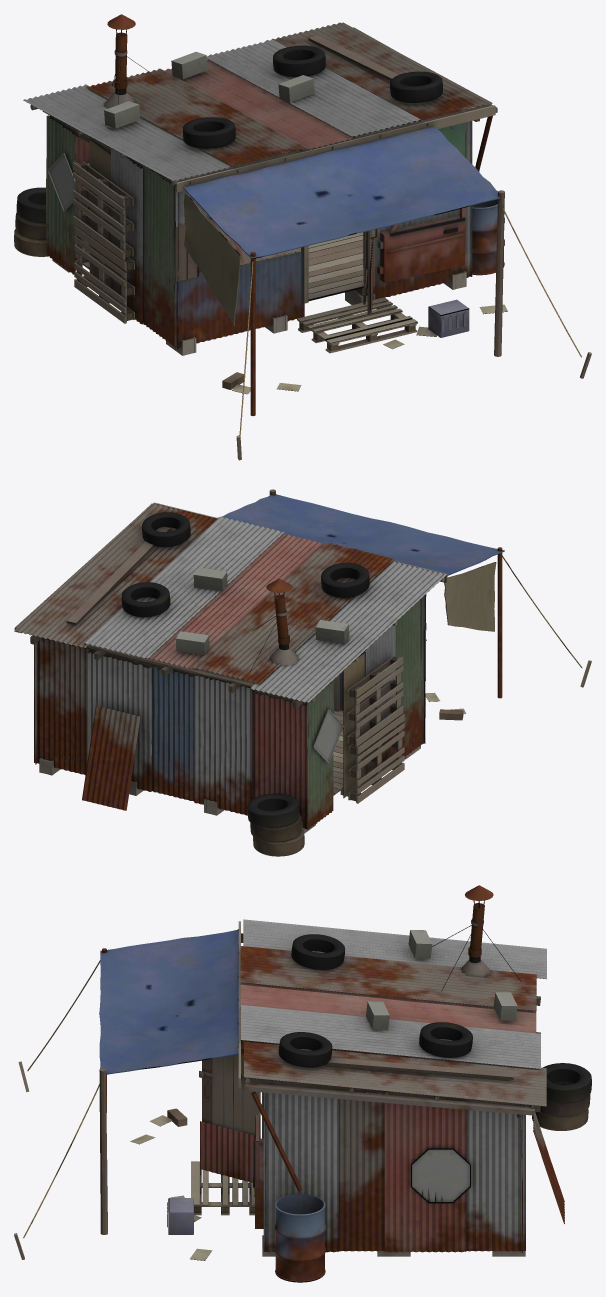
File: ScrapShanty.glb
The picture shows the model from 3 angles, top to bottom: view 1: azimuth 30°, elevation 25°; view 2: azimuth 150°, elevation 25°; view 3: azimuth 270°, elevation 25°; orthographic projection. The views are drawn at different scales.
Visible parts, largest first — view 1: body, door_mesh; view 2: body; view 3: body, door_mesh.
Boxes of the visible parts, box(x1,y1,x2,y2) form: body: box(14, 14, 591, 460); door_mesh: box(363, 229, 377, 314); body: box(14, 489, 591, 856); body: box(14, 885, 591, 1282); door_mesh: box(199, 1049, 260, 1182).
Bounding box in the file's own units: 5.52 × 3.35 × 6.79.
Materials: 3 (1 with a texture image).
